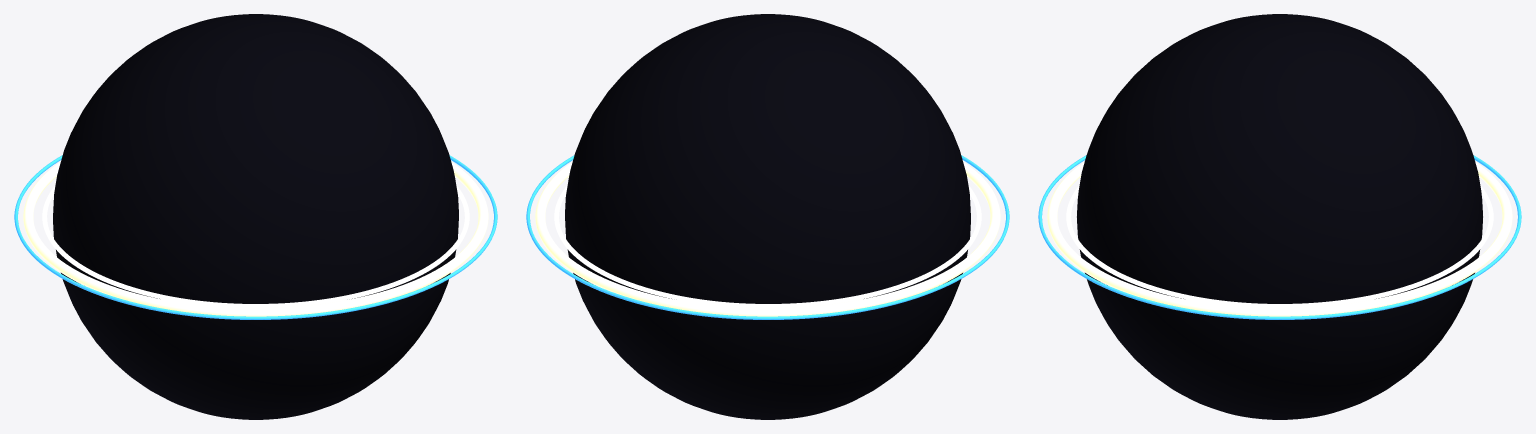
The model's file is black_hole.glb.
3 views of the same model, side by side, from view 1: azimuth 30°, elevation 25°; view 2: azimuth 150°, elevation 25°; view 3: azimuth 270°, elevation 25° (orthographic).
Visible parts, largest first — view 1: black_hole; view 2: black_hole; view 3: black_hole.
Boxes of the visible parts, x1,y1,x2,y2 form: black_hole: (14, 14, 497, 419); black_hole: (526, 14, 1009, 419); black_hole: (1038, 14, 1521, 419).
Bounding box in the file's own units: 2.38 × 2 × 2.38.
